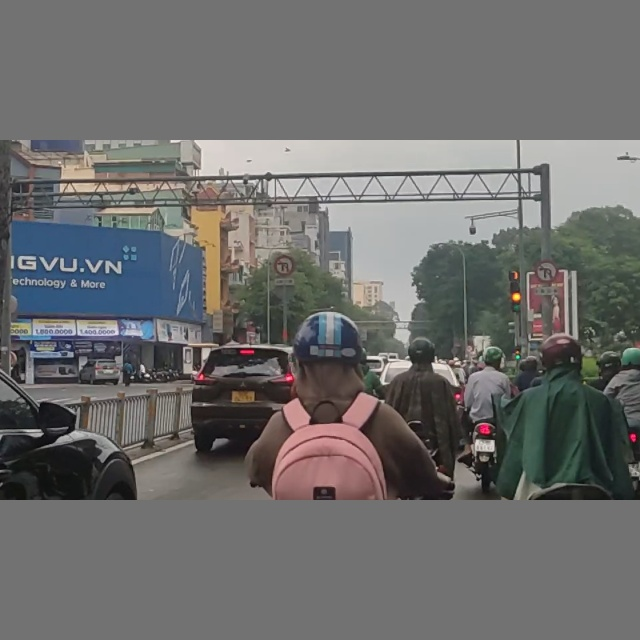P.124c: (539, 262, 558, 284), (275, 255, 295, 275)
